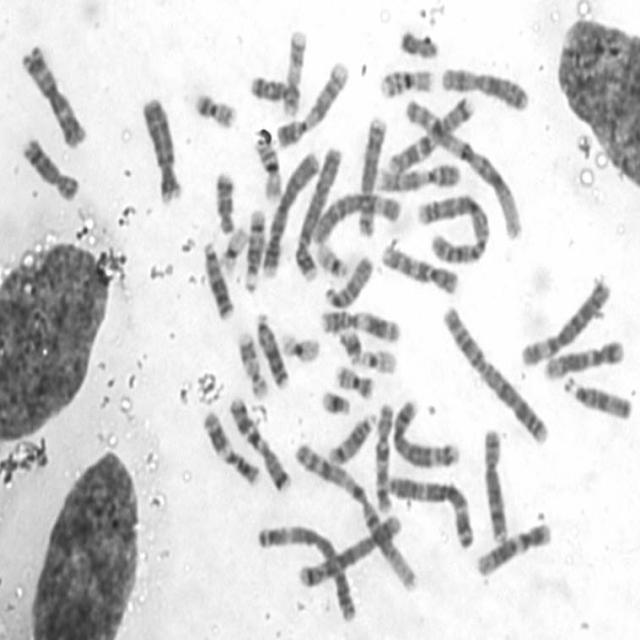A1: (293, 440, 420, 593), (402, 94, 526, 242)
A2: (440, 303, 551, 445), (414, 190, 490, 266)
A3: (254, 519, 358, 624), (20, 42, 90, 150), (384, 471, 474, 549)
B4: (258, 148, 320, 278), (290, 142, 342, 282), (138, 92, 183, 205)
B5: (294, 510, 404, 590), (390, 396, 460, 468)
C10: (379, 239, 461, 296), (371, 397, 395, 516)
C11: (199, 406, 261, 488), (316, 306, 402, 343)
C12: (473, 518, 552, 578), (540, 335, 625, 381)
C6: (517, 274, 611, 368), (310, 188, 403, 245)
C7: (384, 94, 474, 178), (226, 390, 293, 494)
C8: (354, 112, 389, 240), (19, 134, 81, 202), (480, 424, 509, 544)
C9: (273, 58, 350, 150), (373, 159, 463, 194)
D13: (252, 308, 290, 392), (201, 237, 234, 321)
D14: (325, 409, 378, 466), (241, 205, 267, 295)
D15: (562, 372, 632, 421), (322, 251, 374, 310)
E16: (252, 132, 283, 202), (377, 64, 436, 99)
E17: (234, 328, 269, 401), (280, 27, 308, 118)
E18: (246, 72, 303, 116), (212, 167, 238, 236)
F19: (216, 223, 248, 273), (278, 329, 322, 365)
F20: (191, 88, 237, 130), (332, 360, 374, 401)
G21: (338, 326, 364, 368), (318, 386, 352, 416)
G22: (314, 238, 349, 280), (358, 343, 398, 374)
X: (438, 62, 530, 113)
Y: (398, 26, 439, 60)
